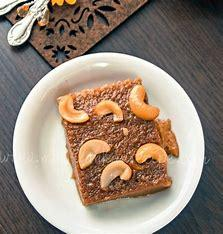Watalappam: (53, 81, 194, 201)
